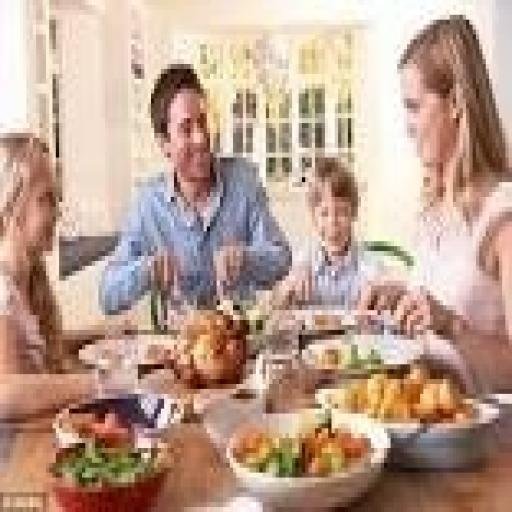eating: (99, 59, 292, 315)
